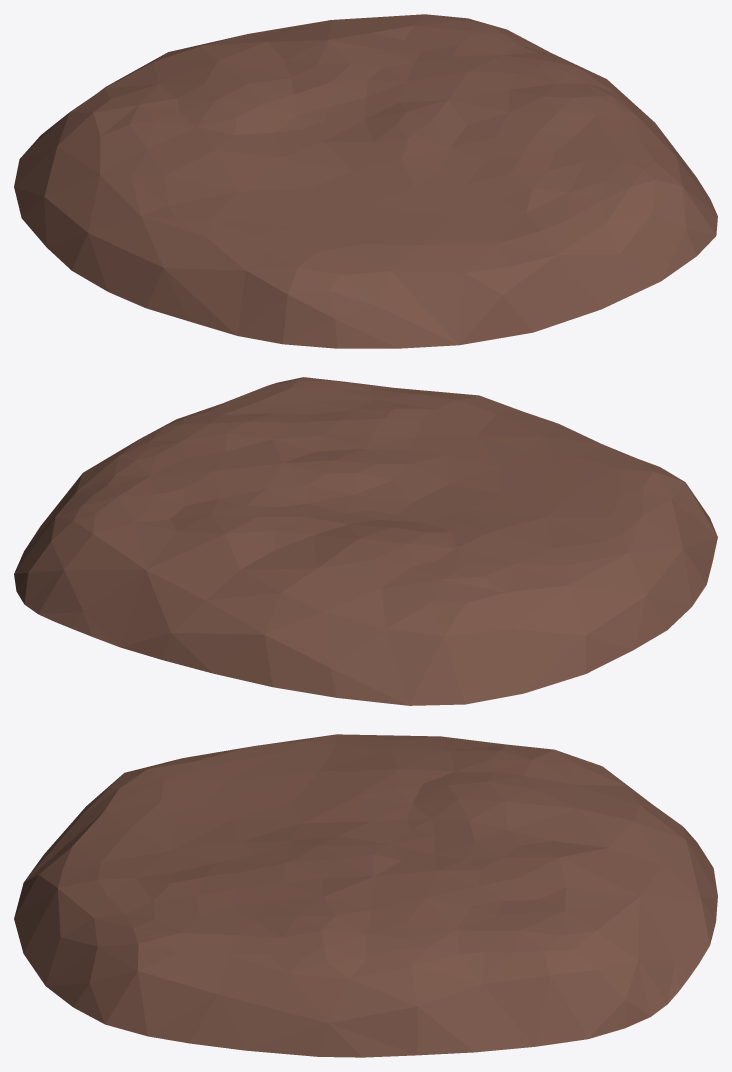
Rendered from land_002.fbx.
3 renders of one model, top to bottom at view 1: azimuth 30°, elevation 25°; view 2: azimuth 150°, elevation 25°; view 3: azimuth 270°, elevation 25°, orthographic. The views are drawn at different scales.
Visible parts, largest first — view 1: land_002; view 2: land_002; view 3: land_002.
Part boxes in pixels (x1,y1,x2,y2): land_002: (14,14,717,348); land_002: (14,377,717,705); land_002: (14,734,717,1057).
Size of the model in its own units: 4398 by 4421 by 641.
